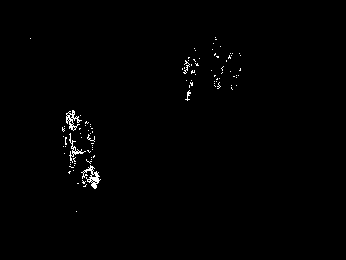person: (58, 108, 102, 190)
